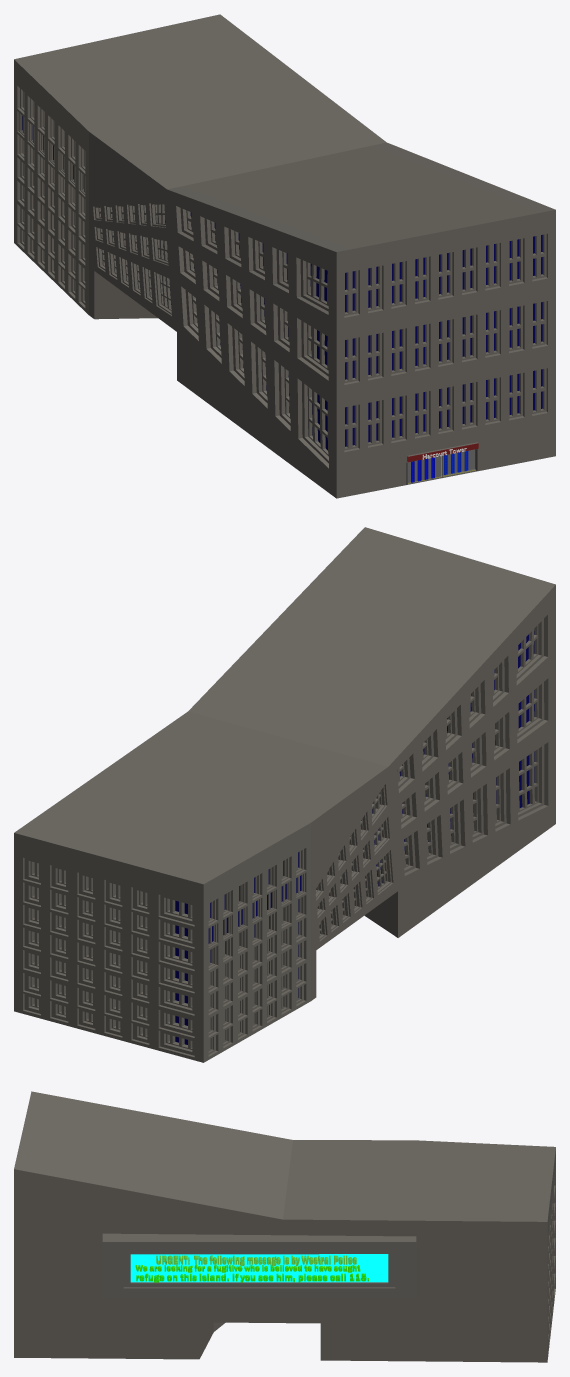
The model's file is SaintMary'sIslandOfficeTower.fbx.
The picture shows the model from 3 angles, top to bottom: view 1: azimuth 30°, elevation 25°; view 2: azimuth 150°, elevation 25°; view 3: azimuth 270°, elevation 25°; orthographic projection. The views are drawn at different scales.
Visible parts, largest first — view 1: HarcourtTower, DoorLeft, DoorRight; view 2: HarcourtTower; view 3: HarcourtTower, Line1, Line3, Line2.
Boxes of the visible parts, x1,y1,x2,y2 form: HarcourtTower: (14,14,555,498); DoorLeft: (408,456,440,482); DoorRight: (442,449,474,474); HarcourtTower: (14,527,555,1062); HarcourtTower: (14,1091,555,1362); Line1: (156,1255,356,1265); Line3: (136,1273,368,1282); Line2: (135,1264,360,1272).
Bounding box in the file's own units: 3046 × 3065 × 7978.
